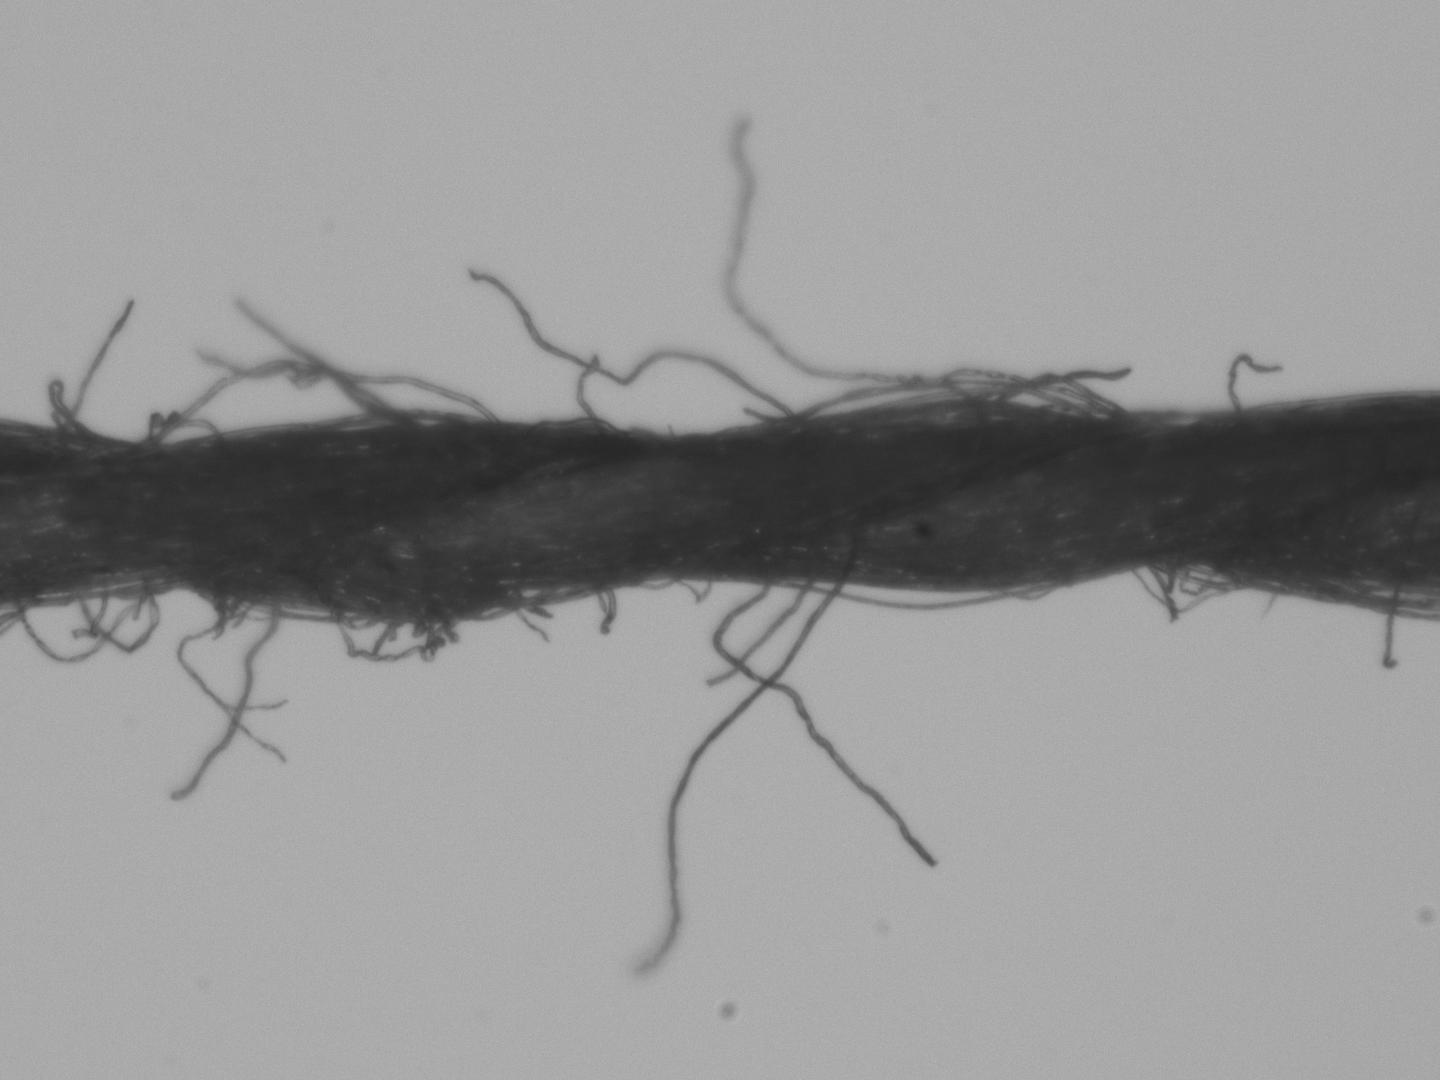loop_fiber: (141, 358, 503, 440), (786, 363, 1193, 429), (322, 587, 618, 664), (1, 585, 159, 664), (1128, 560, 1252, 628), (820, 580, 1057, 611), (1295, 576, 1439, 617), (625, 575, 718, 608), (45, 376, 93, 439)
protruding_fiber: (634, 576, 850, 973), (722, 117, 985, 429), (713, 583, 938, 866), (461, 262, 798, 427), (163, 598, 281, 808), (179, 584, 283, 770), (693, 575, 812, 692), (66, 296, 135, 430), (1222, 348, 1284, 414), (571, 348, 603, 424), (1379, 581, 1401, 669), (1264, 576, 1286, 625)
